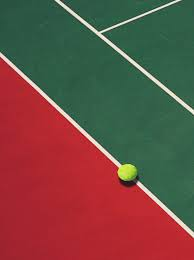tennis_ball: (117, 163, 138, 181)
